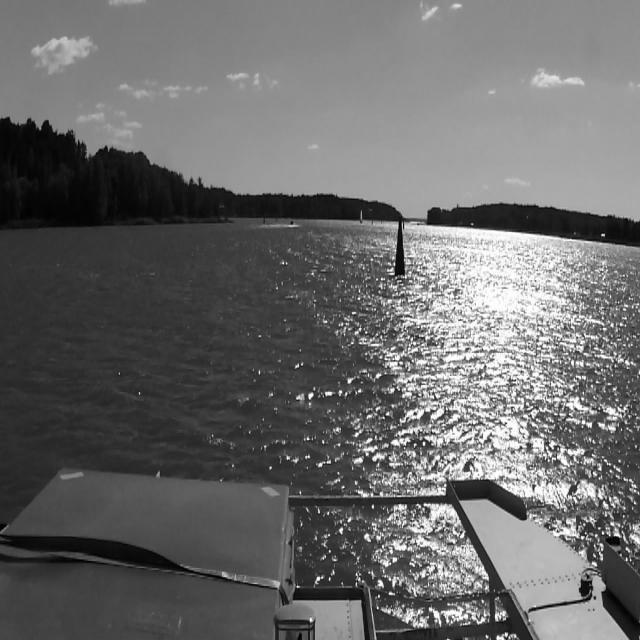buoy: (394, 220, 406, 276), (261, 204, 266, 223)
ship: (284, 209, 300, 229)
